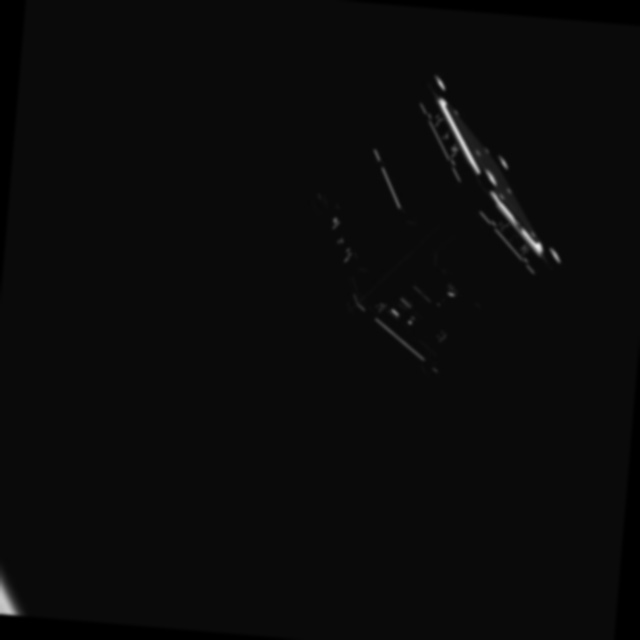medium_debris: (291, 58, 591, 391)
